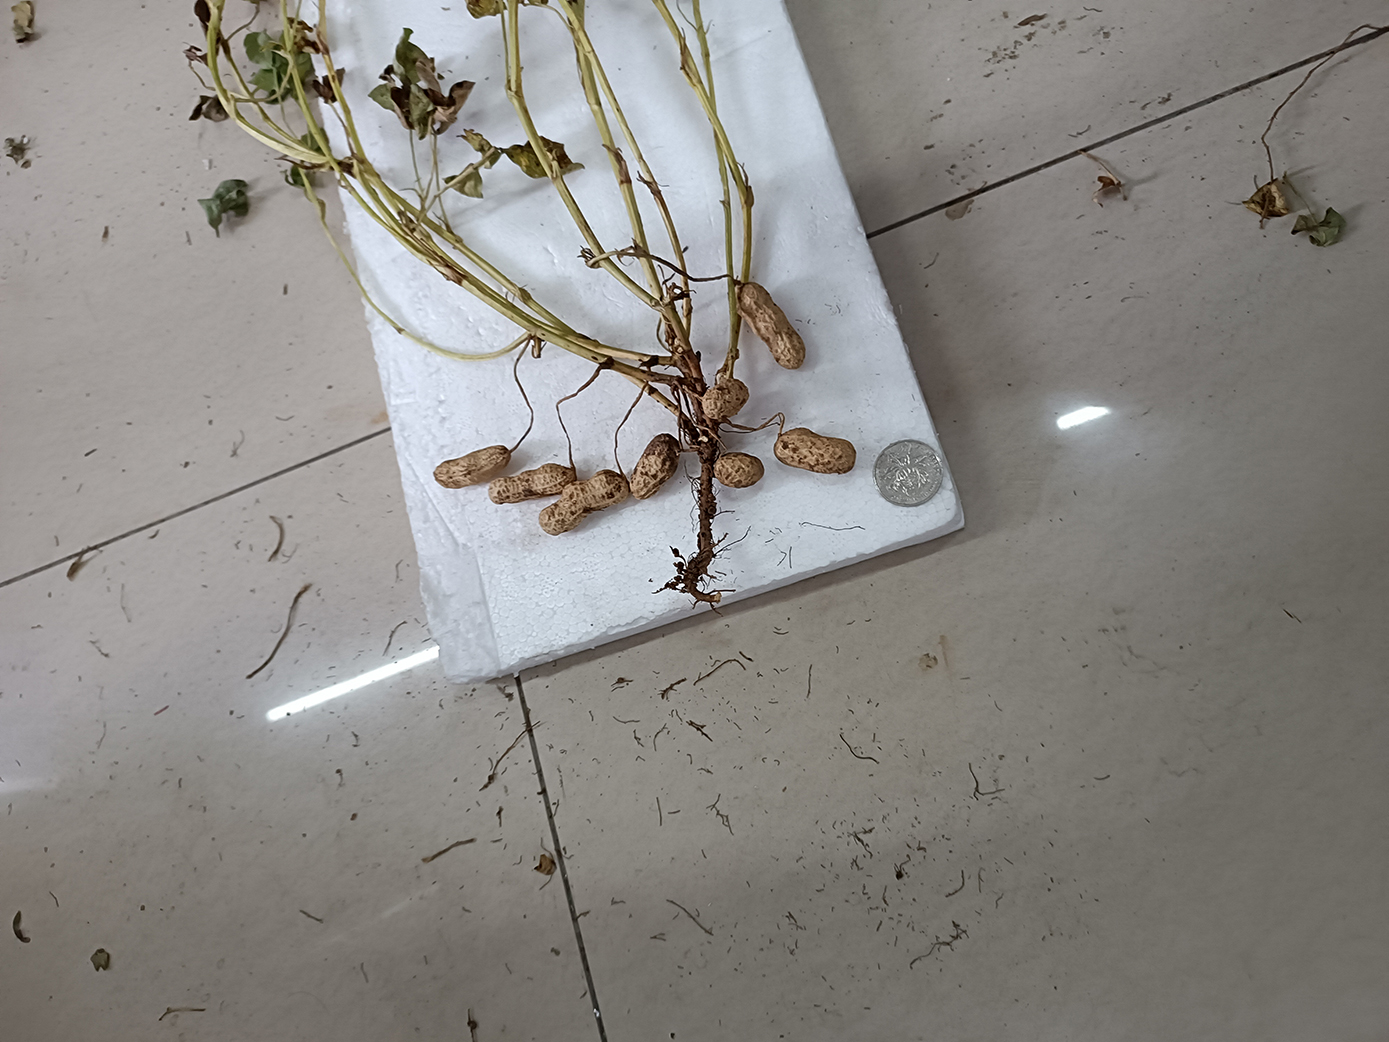h: (734, 280, 806, 371), (539, 470, 629, 536), (489, 461, 578, 505), (775, 428, 855, 475), (435, 445, 512, 489), (632, 433, 680, 500), (702, 379, 750, 420), (714, 451, 764, 488)
